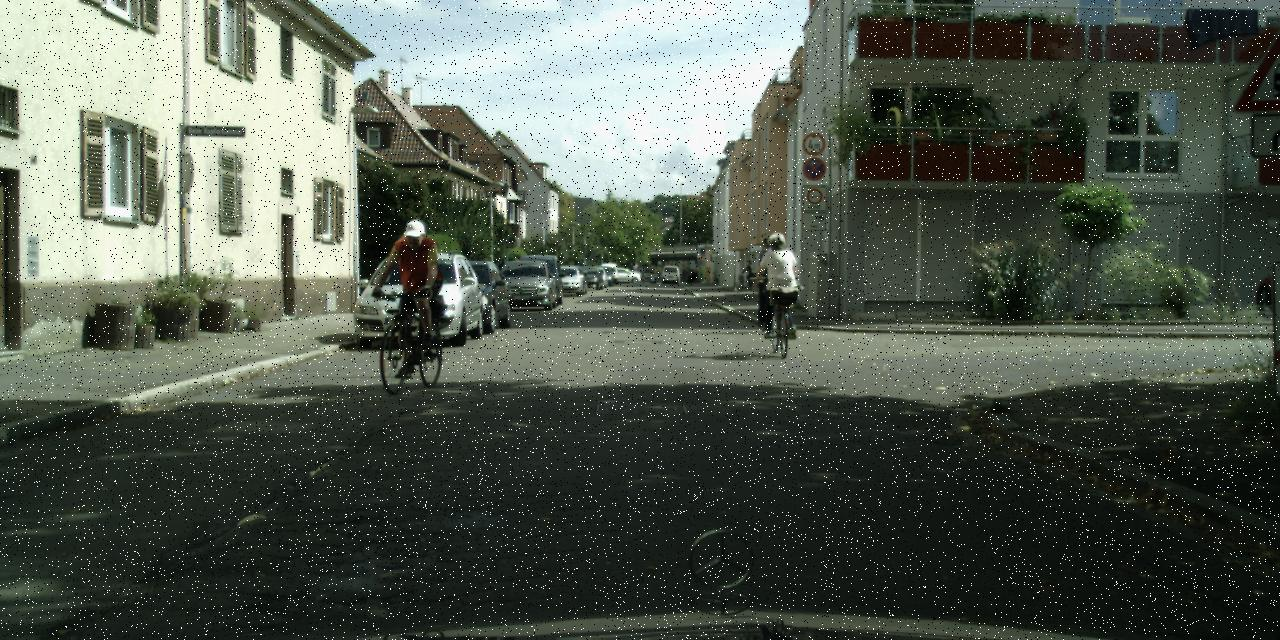ped: (388, 218, 443, 356), (758, 232, 800, 335), (752, 237, 786, 322), (744, 258, 755, 288)
